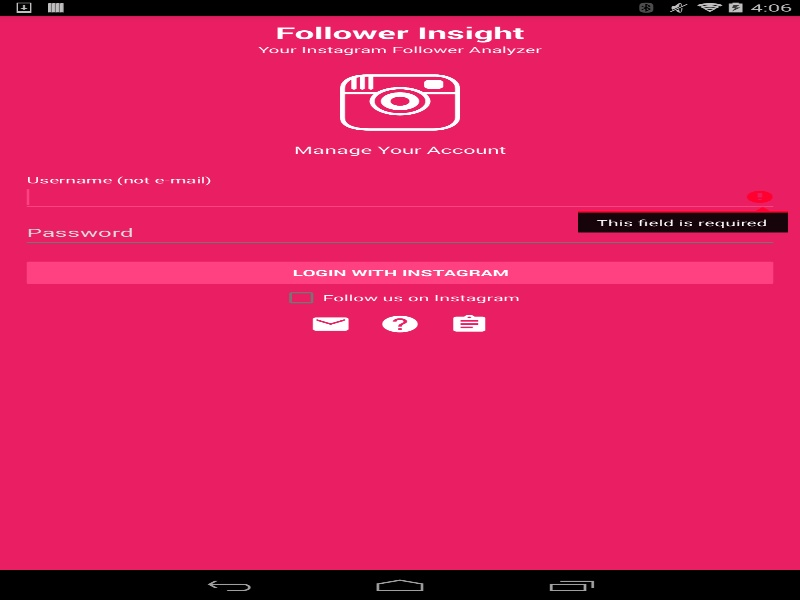Button: (21, 257, 778, 287)
Input: (21, 183, 778, 211), (21, 219, 778, 247)
